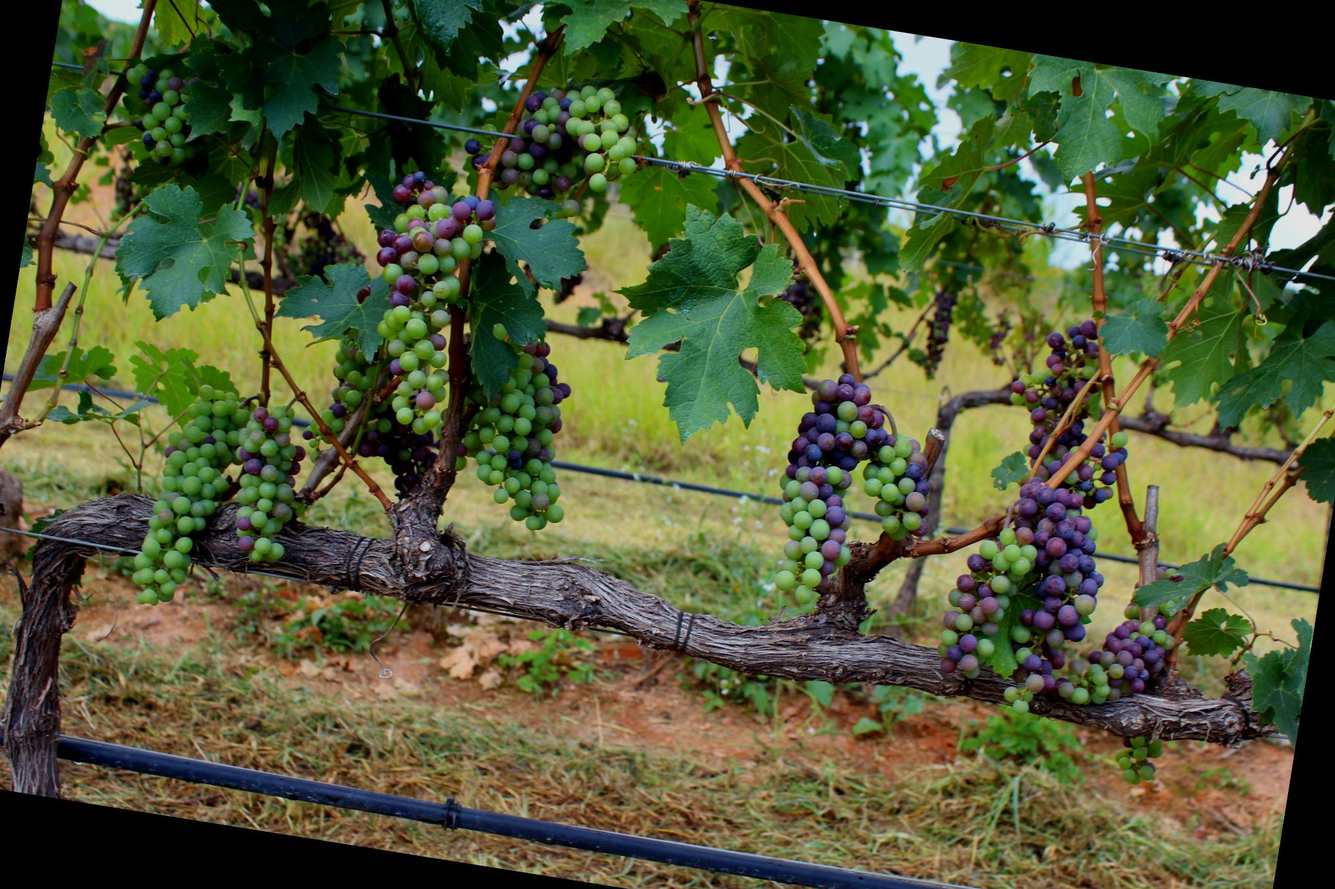Grape Ripe: (995, 473, 1115, 657)
Grape Unripe: (134, 378, 243, 614), (120, 60, 209, 167)
